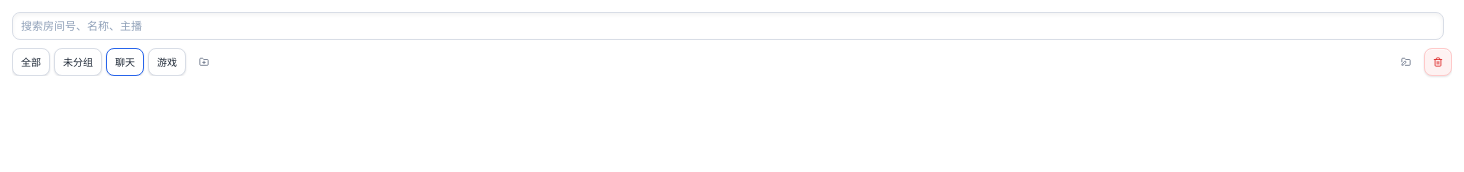
creates a group from the strip-end button through the inline panel
Click the tab named "新建分组" at (204, 62), box [190,48,218,76]
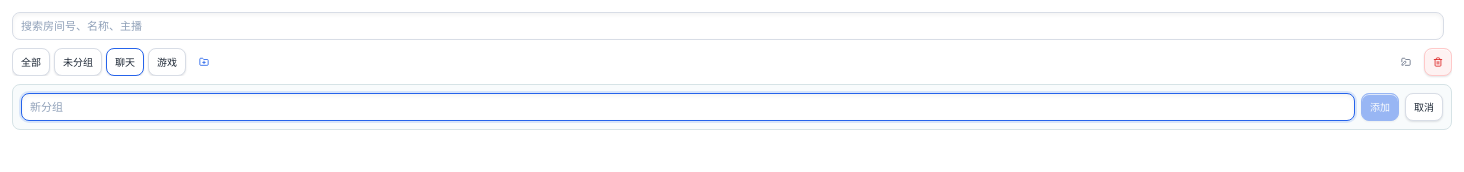
Type "赛事" into the field named "新分组名称" at (688, 107), box [21,93,1355,121]
Then press Enter
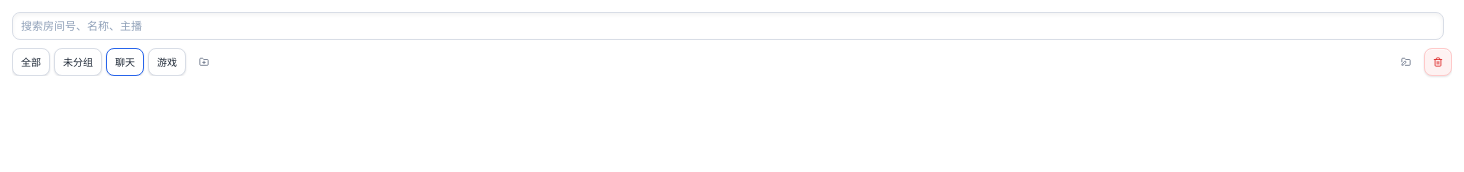
Now the field labelled "新分组名称" is gone
